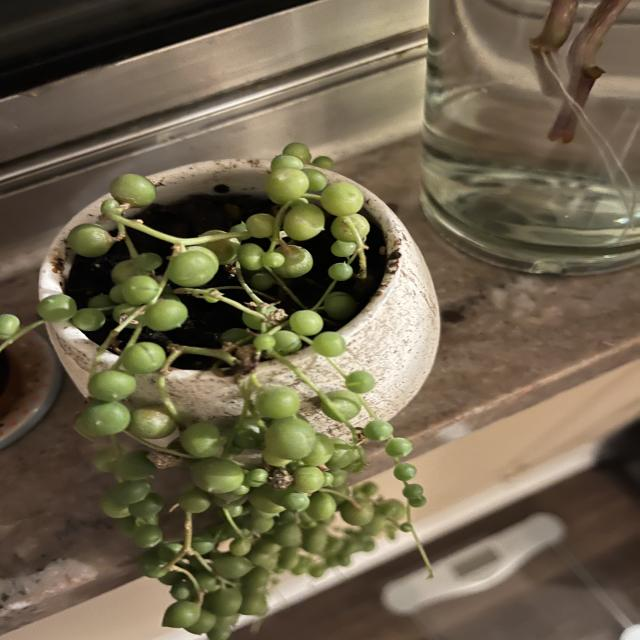String_of_Pearls: (0, 134, 435, 640)
